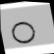no answer: (8, 17, 38, 47)
